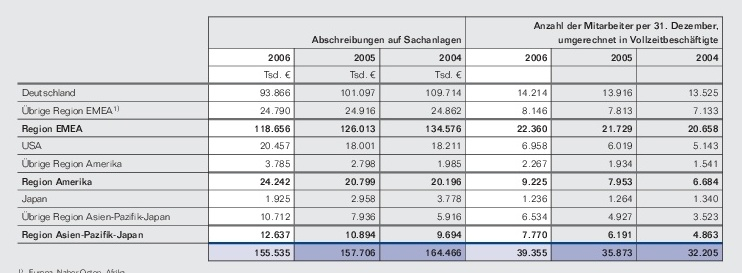table: (0, 0, 742, 273)
